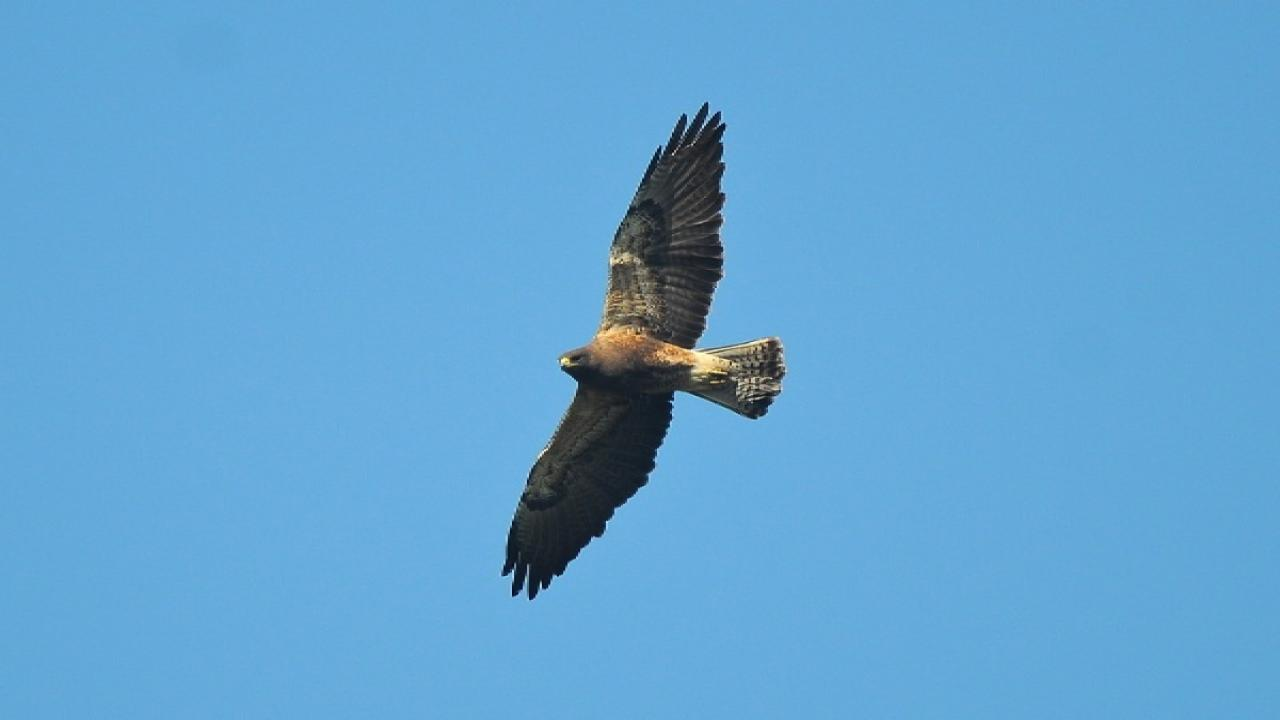Bird: (476, 93, 799, 606)
